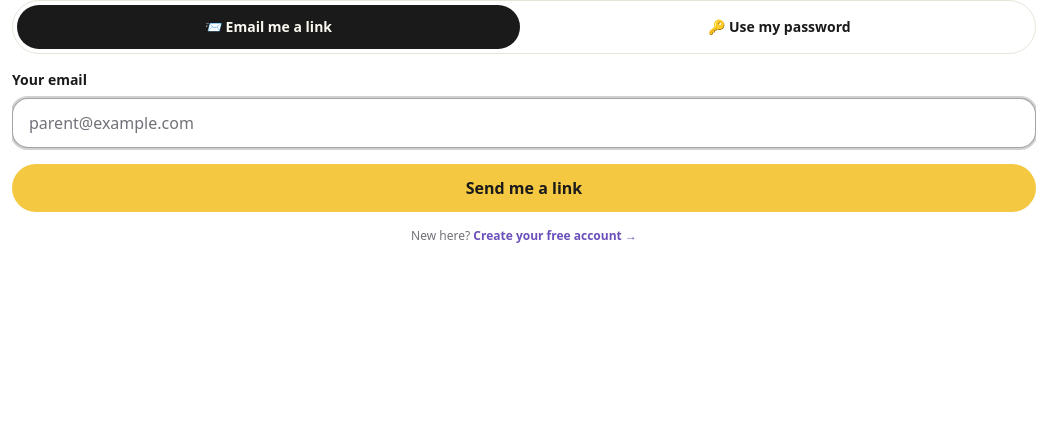
Test: SignInForm › shows the friendly fallback when password is wrong (401)
Click the tab "🔑 Use my password".
click(780, 27)  # box [528, 5, 1031, 49]
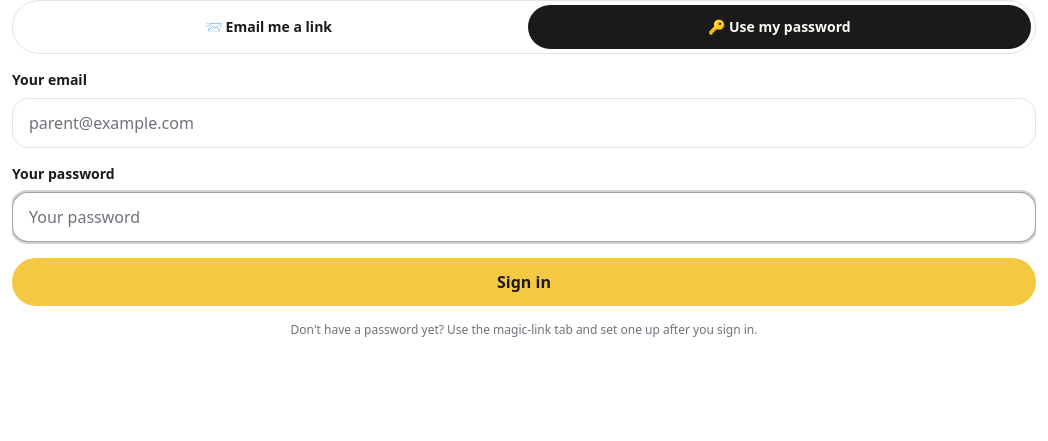
Type "mom@example.com" into the field labelled "Your email".
click(524, 123); type("mom@example.com")  # box [12, 98, 1036, 148]
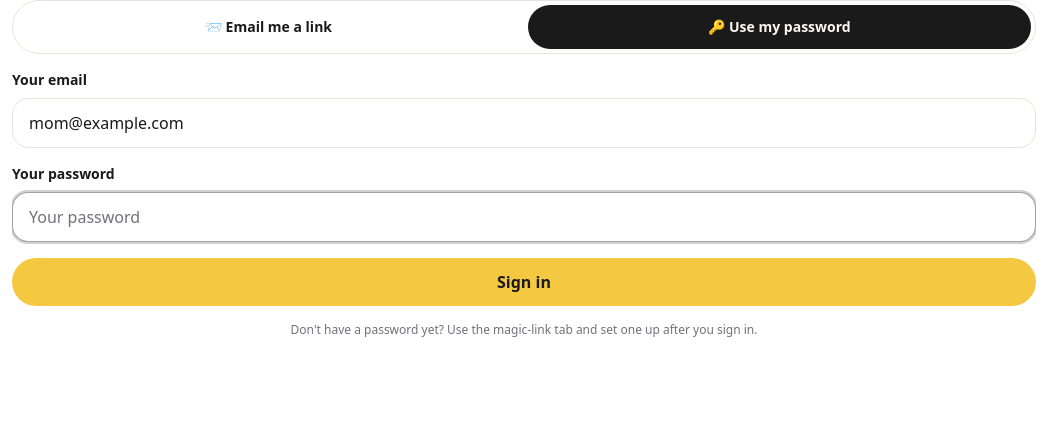
Type "wrongpassword" into the password field labelled "Your password".
click(524, 217); type("wrongpassword")  # box [12, 192, 1036, 242]
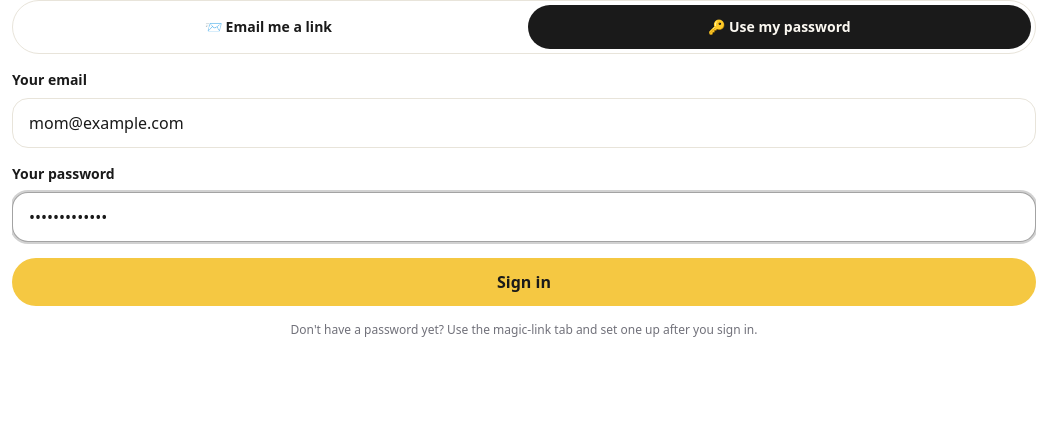
Click the button "Sign in".
click(524, 282)  # box [12, 258, 1036, 306]
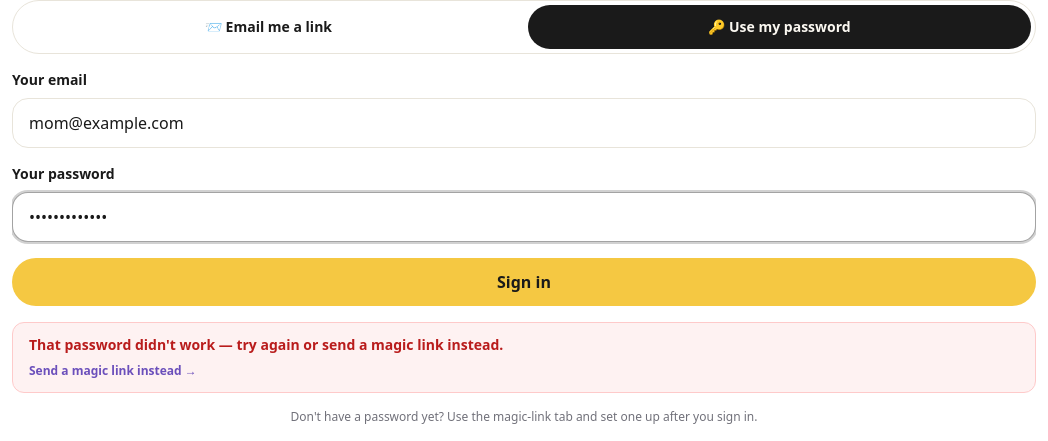
Now the text "That password didn't work" is shown, box [29, 335, 503, 354]
Now the button "Send a magic link instead →" is shown, box [29, 363, 197, 379]
